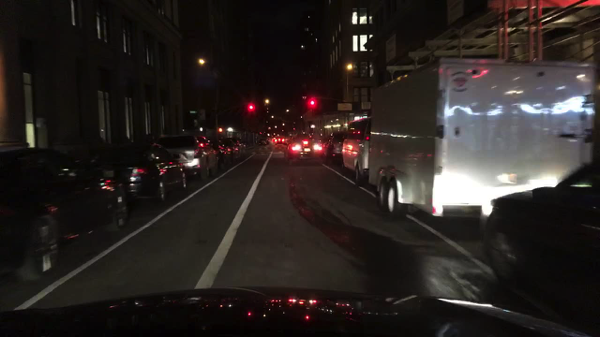car: (484, 159, 599, 330), (1, 147, 131, 285), (94, 142, 189, 205), (154, 133, 217, 181), (341, 116, 373, 184), (283, 131, 324, 166), (202, 137, 223, 169), (326, 130, 345, 165), (229, 134, 248, 161), (214, 140, 231, 169), (225, 138, 240, 164), (318, 141, 328, 158), (272, 136, 286, 145), (257, 138, 269, 147)
traffic light: (309, 97, 315, 109), (249, 104, 255, 111)
traffic sign: (336, 102, 353, 112), (198, 109, 207, 122), (189, 110, 197, 114)
truck: (367, 56, 597, 220)
